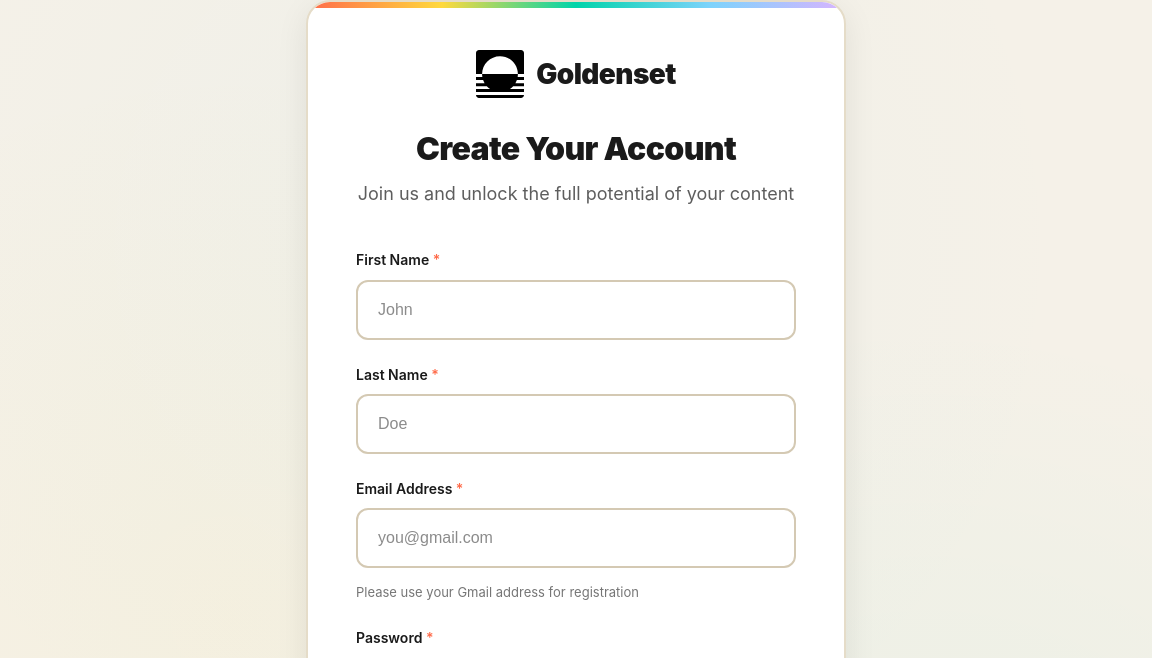
Test case: RegistrationForm › should show validation error for invalid email on blur
Step 1. Type "invalid-email" into the field labelled "Email Address *" → [576, 538], box [356,508,796,568]
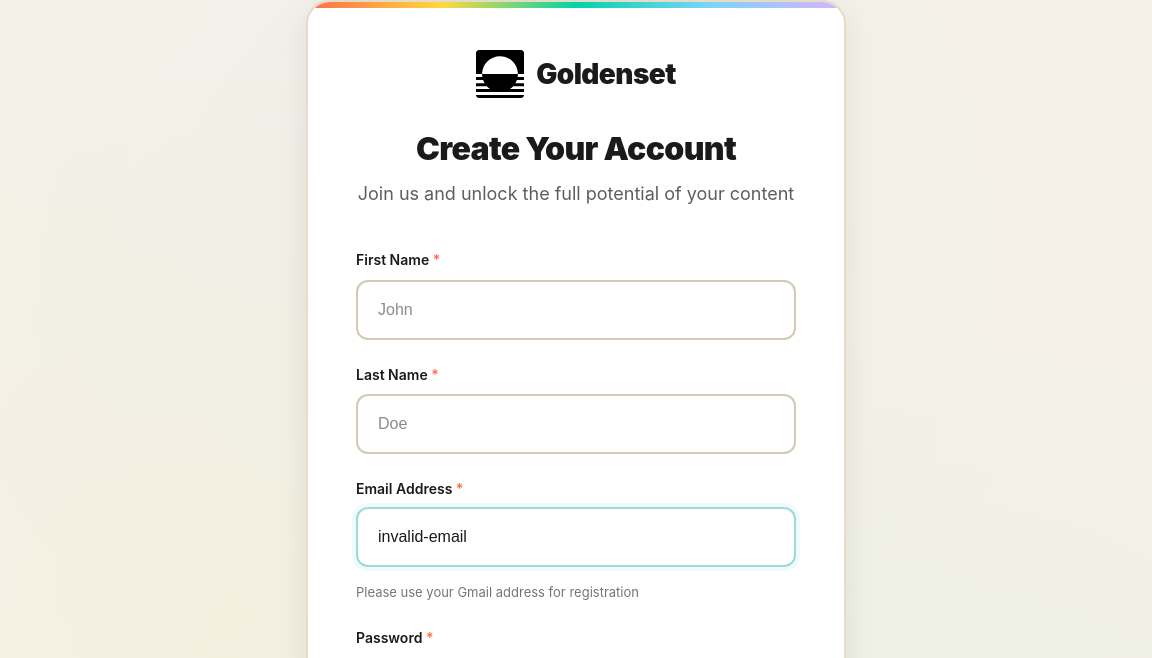
Step 2. Leave the field labelled "Email Address *", box [356,507,796,567]
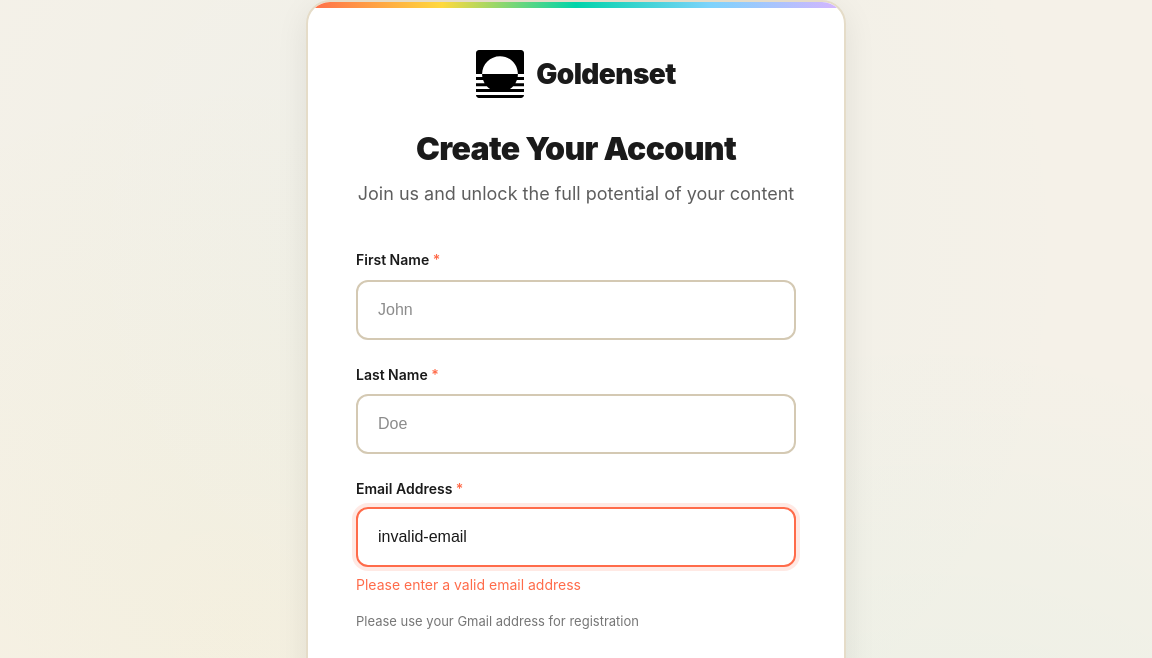
Check: the text "Please enter a valid email address" is shown, box [356,576,581,593]
